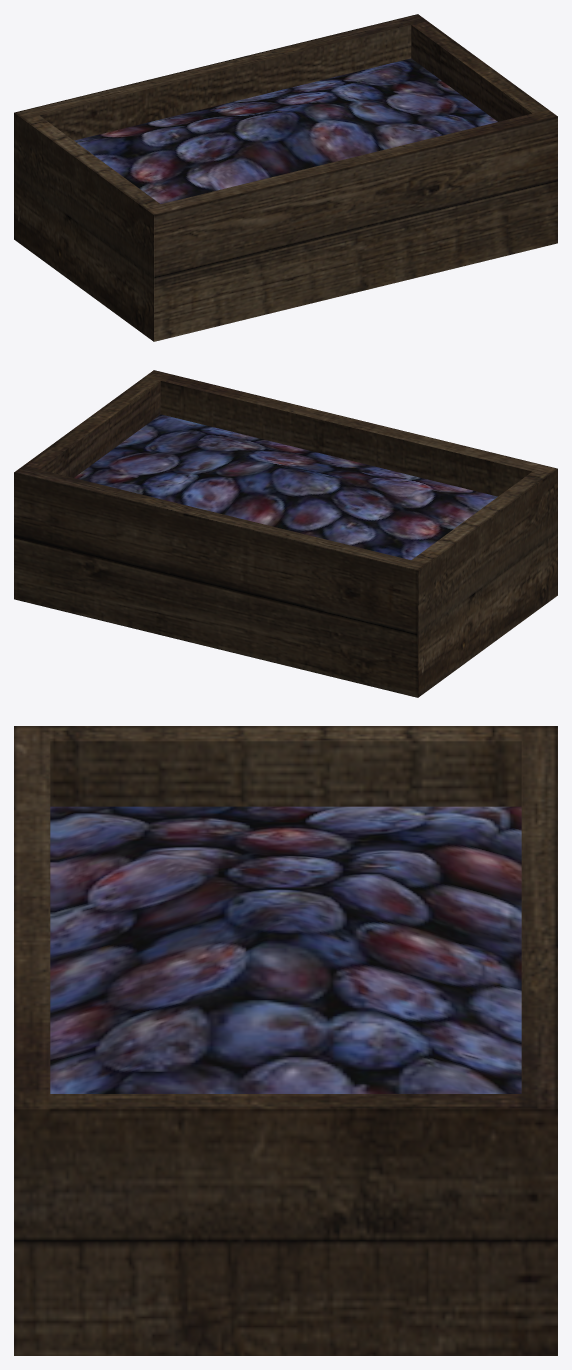
The model's file is Fruits4_LOD1.fbx.
3 views of the same model, one above another, from view 1: azimuth 30°, elevation 25°; view 2: azimuth 150°, elevation 25°; view 3: azimuth 270°, elevation 25° (orthographic). The views are drawn at different scales.
Parts seen in each view (by area): view 1: skrzynia_z_owocami2; view 2: skrzynia_z_owocami2; view 3: skrzynia_z_owocami2.
Boxes of the visible parts, x1,y1,x2,y2 form: skrzynia_z_owocami2: (14, 14, 557, 341); skrzynia_z_owocami2: (14, 370, 557, 697); skrzynia_z_owocami2: (14, 726, 557, 1355).
Bounding box in the file's own units: 3.91 × 1.17 × 2.34.
